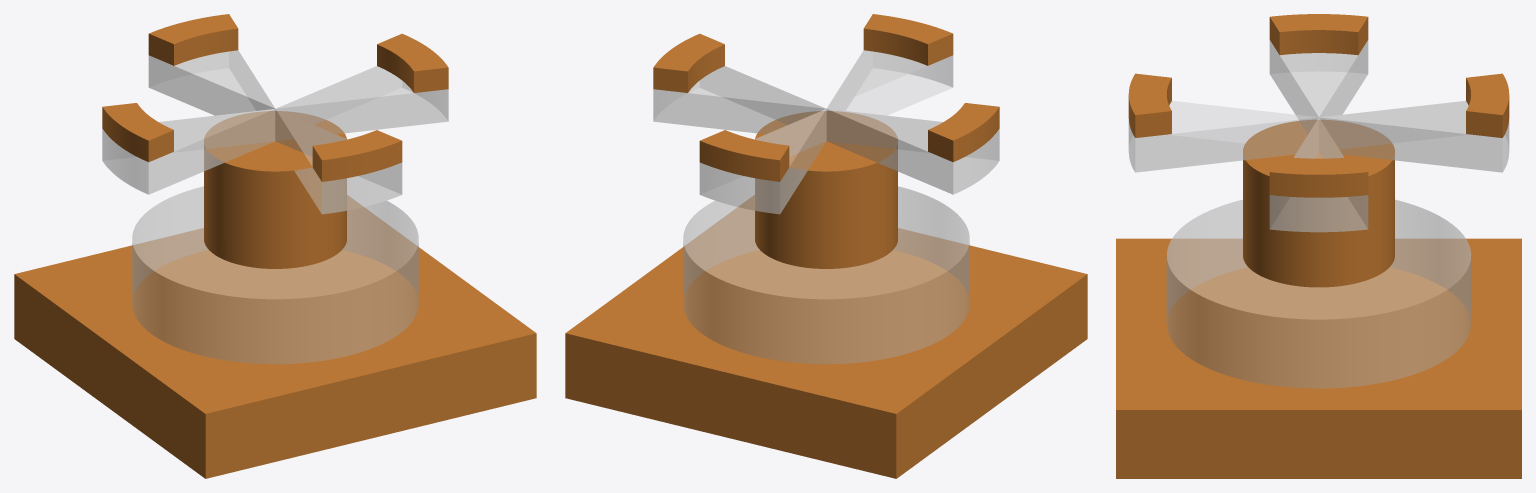
The model's file is bronze.dae.
The picture shows the model from 3 angles, left to right: view 1: azimuth 30°, elevation 25°; view 2: azimuth 150°, elevation 25°; view 3: azimuth 270°, elevation 25°; orthographic projection. The views are drawn at different scales.
Parts seen in each view (by area): view 1: base_bronze_1 (×9); view 2: base_bronze_1 (×9); view 3: base_bronze_1 (×9).
Boxes of the visible parts, x1,y1,x2,y2 form: base_bronze_1 (×9): [14, 14, 536, 478]; base_bronze_1 (×9): [565, 14, 1087, 478]; base_bronze_1 (×9): [1116, 14, 1521, 478].
Bounding box in the file's own units: 315 × 315 × 256.
